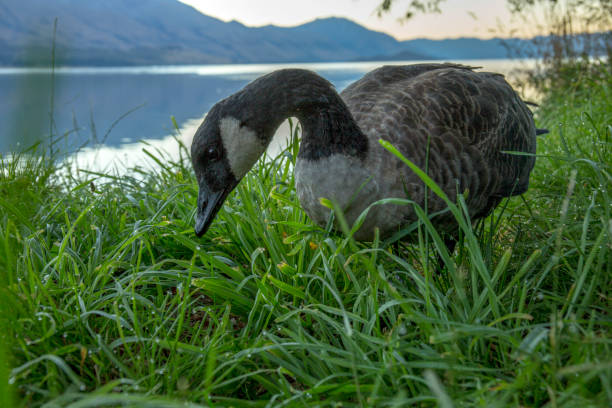goose: (184, 59, 540, 260)
